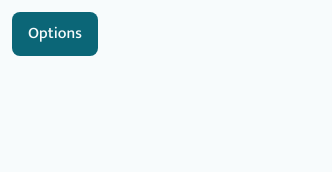
Test: LazyMenu › a click before the chunk arrives opens the menu once it lands
This screenshot has width=332, height=172.
Click the button "Options" at (55, 34), box [12,12,98,56]
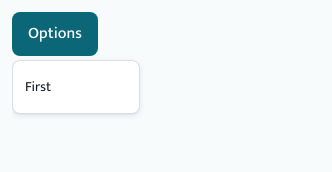
Check: the menu item "First" is shown, box [25,75,51,98]
